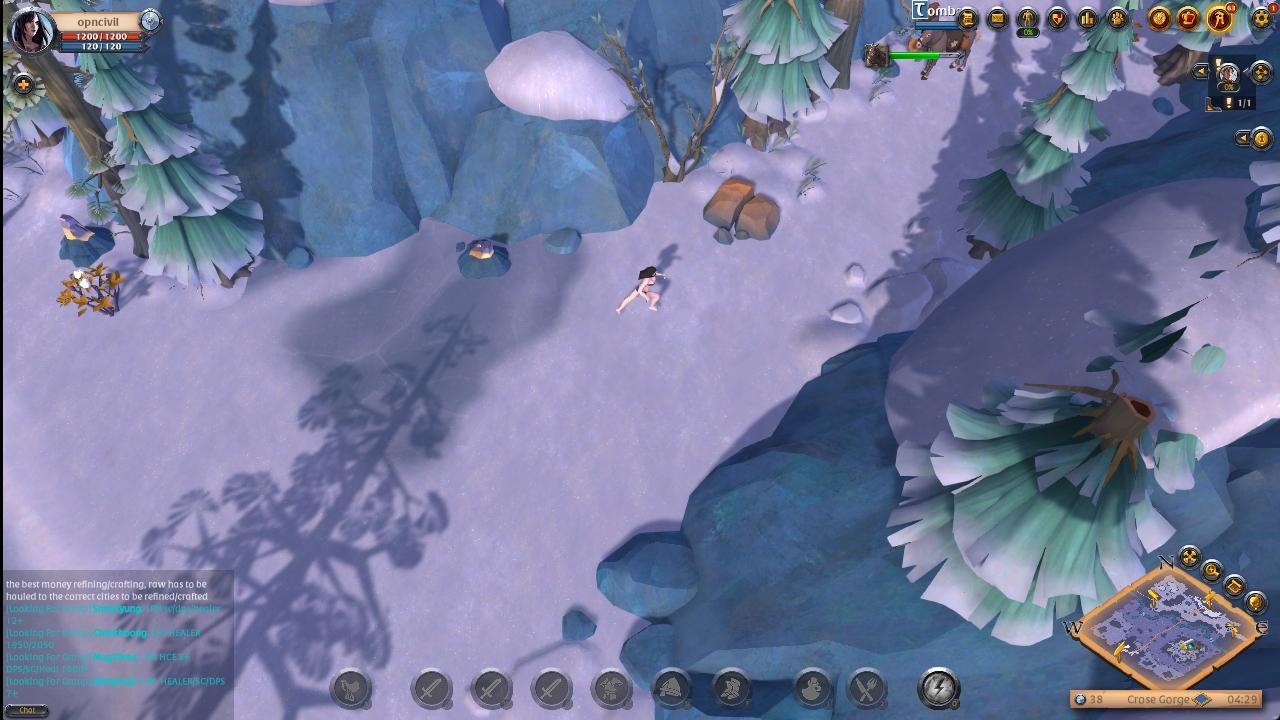copper_ore: (55, 213, 115, 268), (453, 232, 517, 280)
cotton: (52, 260, 128, 322)
limestone: (700, 176, 785, 247)
